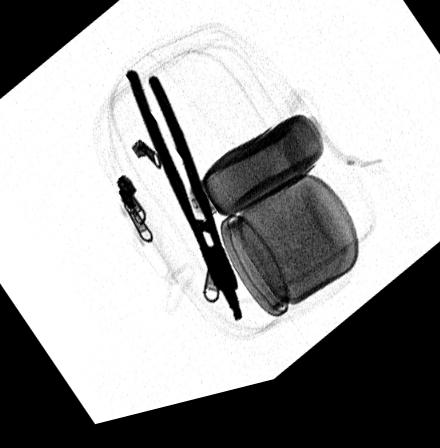Pliers: (126, 77, 242, 334)
